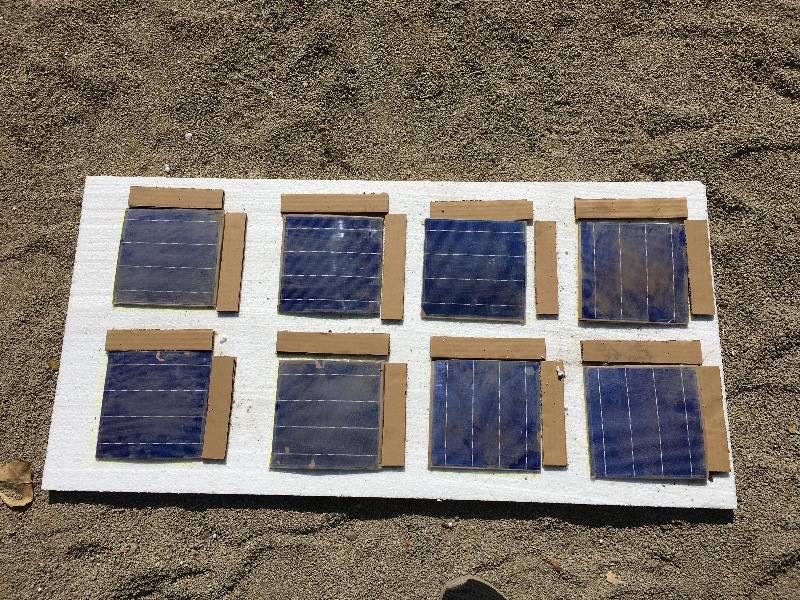clean: (418, 219, 534, 328)
dirty: (270, 356, 380, 471), (103, 206, 222, 307), (576, 221, 690, 326)
semi: (580, 367, 714, 484), (424, 356, 549, 475), (92, 351, 211, 465), (283, 209, 381, 317)
